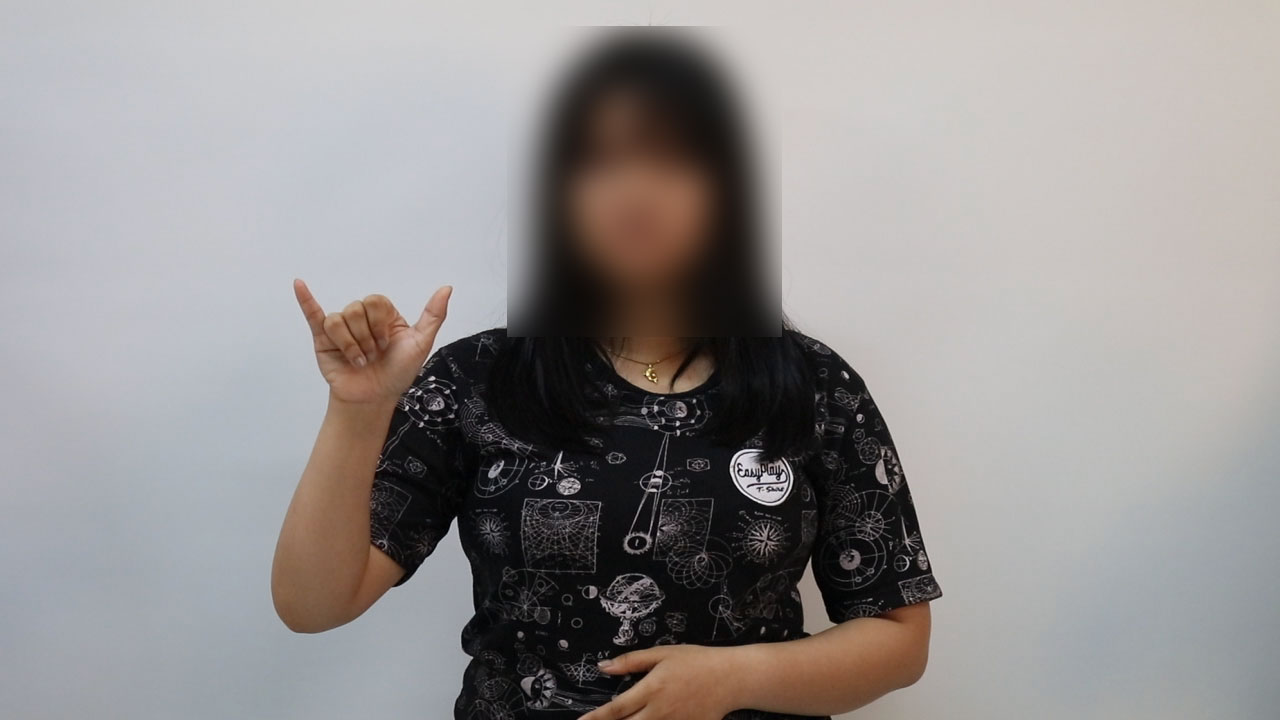yor: (279, 267, 457, 420)
